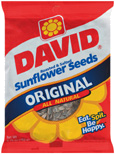grozi_79: (0, 0, 114, 153)
